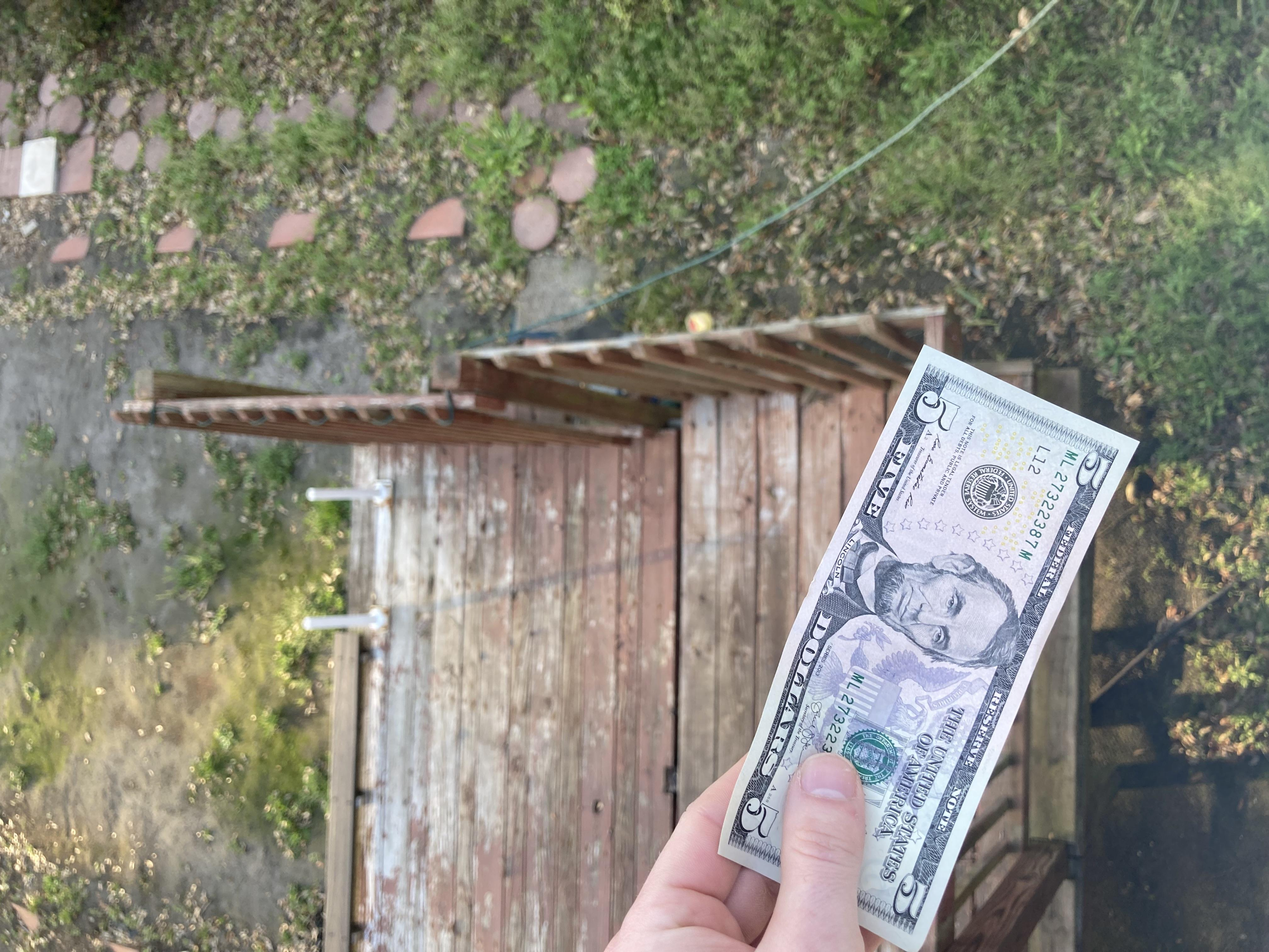five-front: (0, 536, 811, 856)
